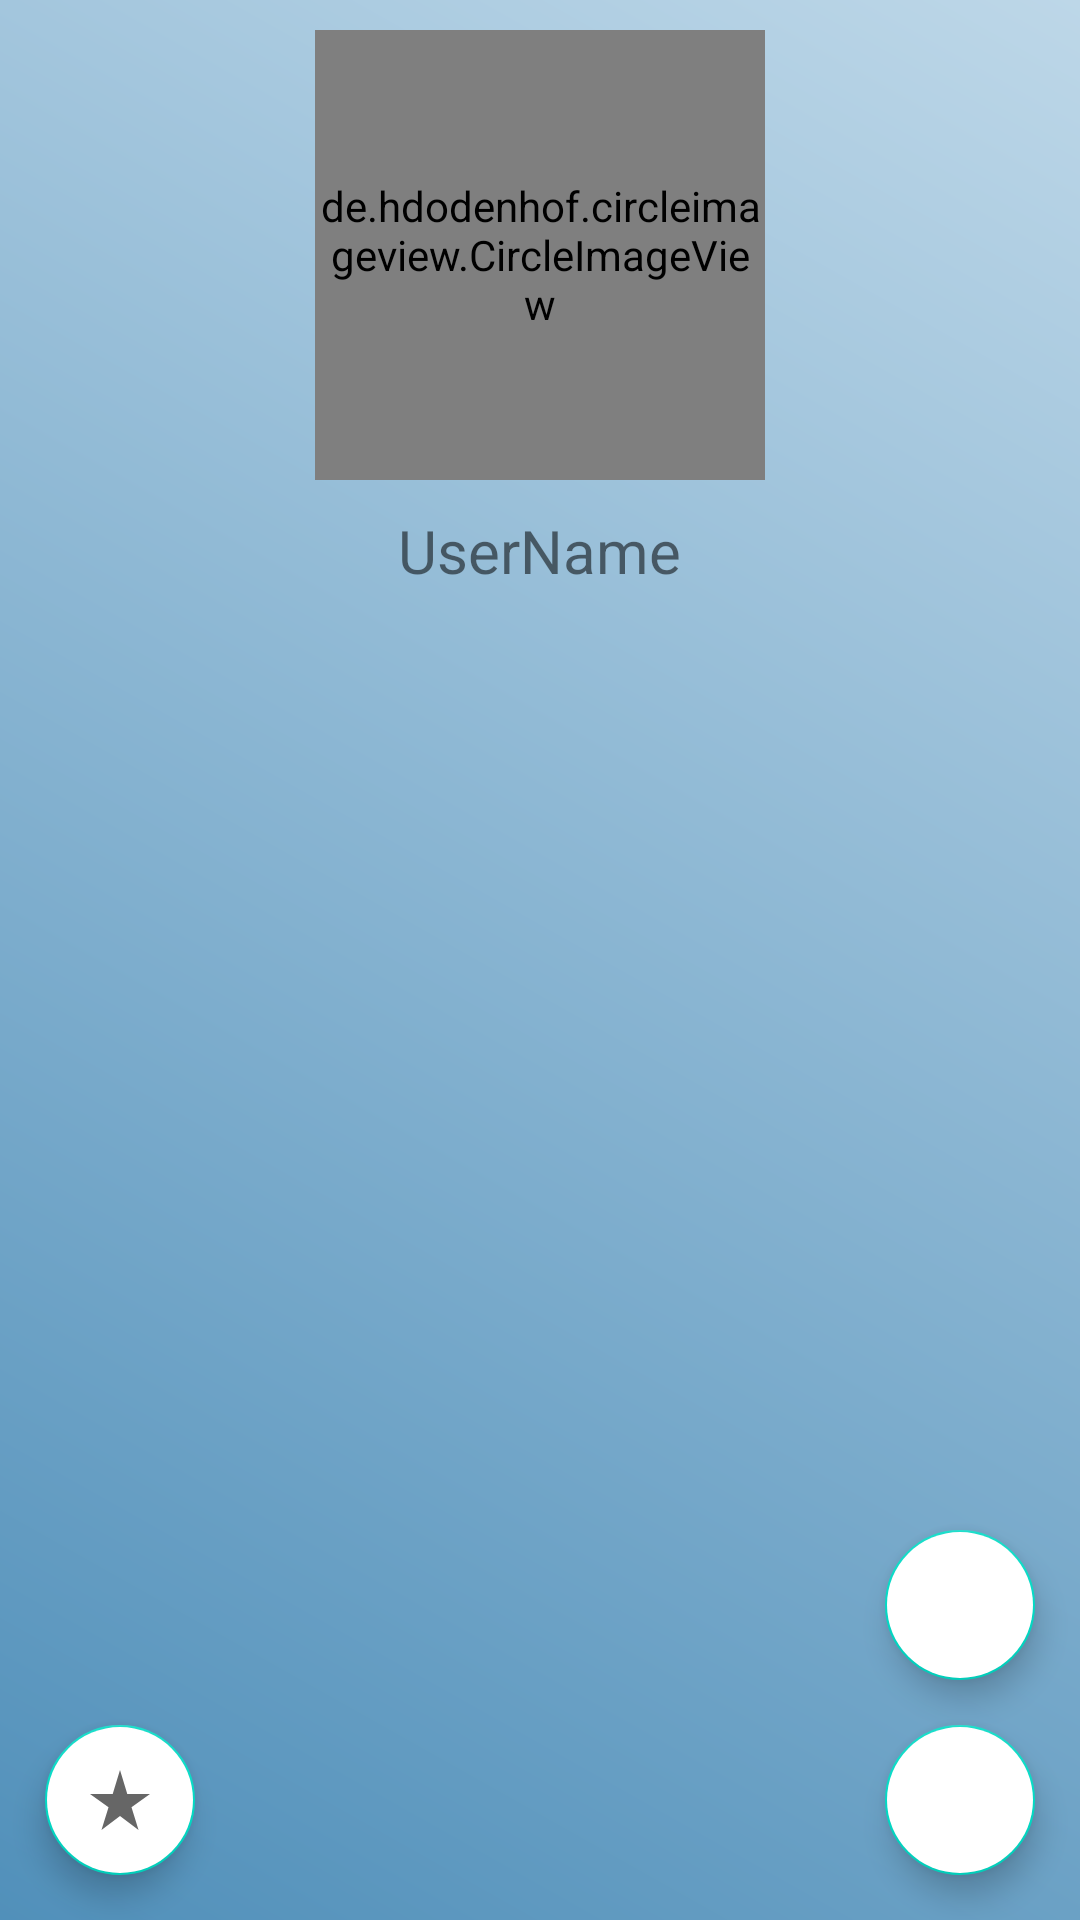

Screen size 1080w x 1920h. Icon name, then its box in pixels as (x1, y1, x2, y2):
myratings: (45, 1725, 195, 1886)
